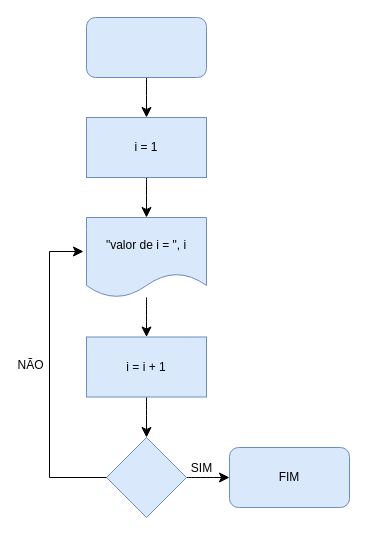
The diagram is 367 pixels wide and 535 high, and some of its shapes have lost their labels. Here are the shapes that lost their labels. From the top down, the box of each, then its label:
(86, 16, 206, 78): INÍCIO
(106, 436, 186, 518): i > 5
